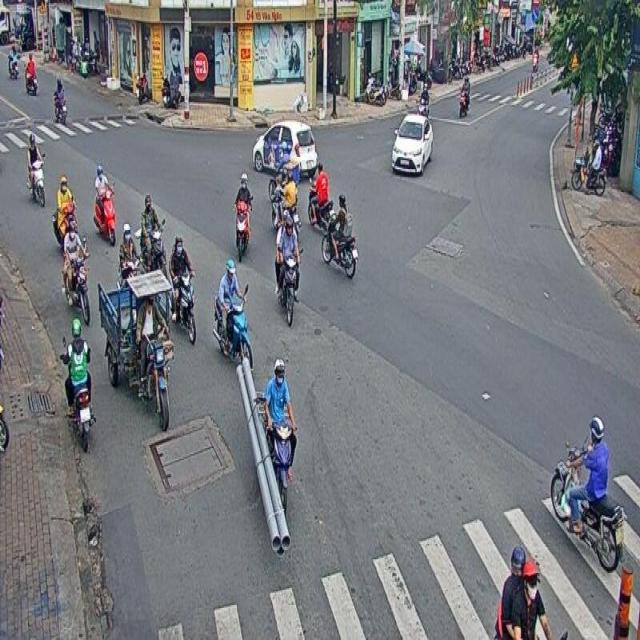car: (252, 120, 318, 177), (391, 112, 434, 170)
motorcycle: (550, 414, 625, 573), (266, 358, 296, 517), (60, 318, 94, 452), (214, 258, 252, 367), (321, 192, 358, 279), (274, 210, 300, 328), (62, 221, 90, 326), (169, 234, 196, 340), (140, 192, 167, 274), (94, 163, 116, 245), (307, 162, 334, 227), (234, 172, 252, 262), (27, 131, 45, 207), (118, 222, 141, 279)
